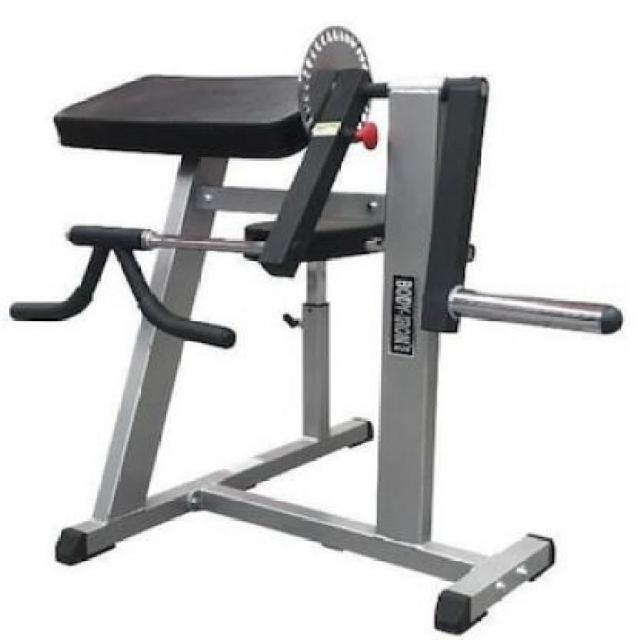arm curl machine: (12, 28, 623, 634)
